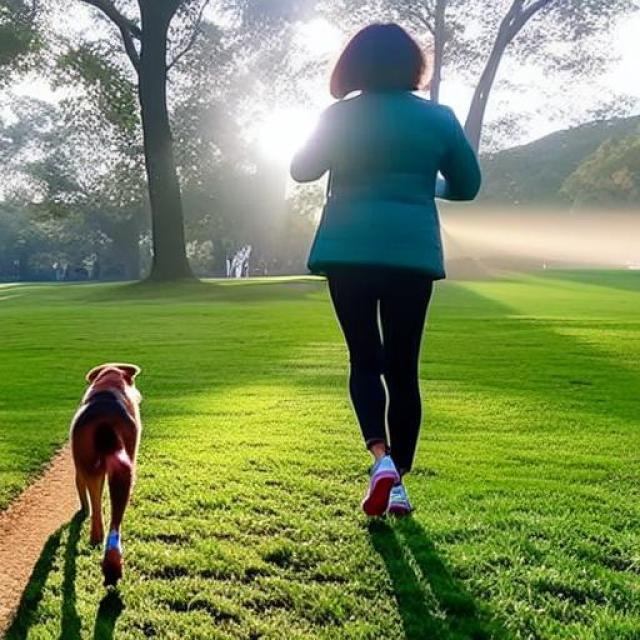Unleashed_Dog: (70, 213, 436, 566)
